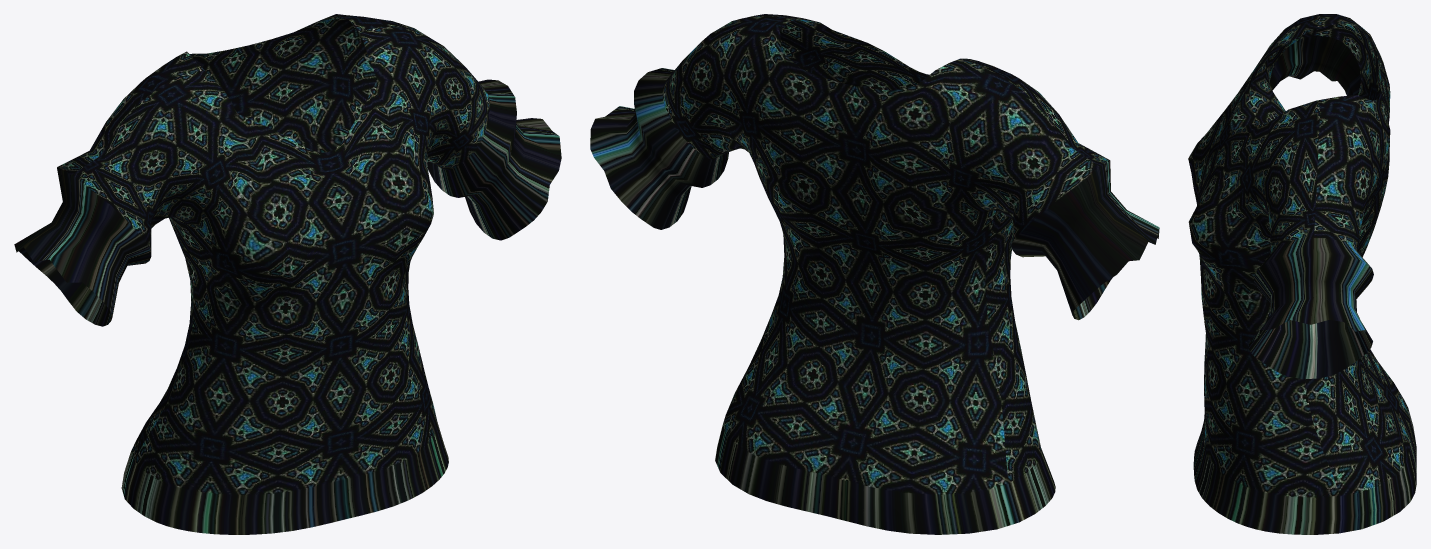
Rendered from elvs-ruffle-sleeve-peasant-blouse-1.glb.
3 views of the same model, side by side, from view 1: azimuth 30°, elevation 25°; view 2: azimuth 150°, elevation 25°; view 3: azimuth 270°, elevation 25° (orthographic). The views are drawn at different scales.
Visible parts, largest first — view 1: ruffle sleeve peasant blouse; view 2: ruffle sleeve peasant blouse; view 3: ruffle sleeve peasant blouse.
Part boxes in pixels (bbox=[...]): ruffle sleeve peasant blouse: bbox=[14, 14, 561, 534]; ruffle sleeve peasant blouse: bbox=[590, 14, 1159, 534]; ruffle sleeve peasant blouse: bbox=[1188, 14, 1416, 534].
Size of the model in its own units: 66.48 by 51.36 by 26.14.
1 material, 1 textured.
